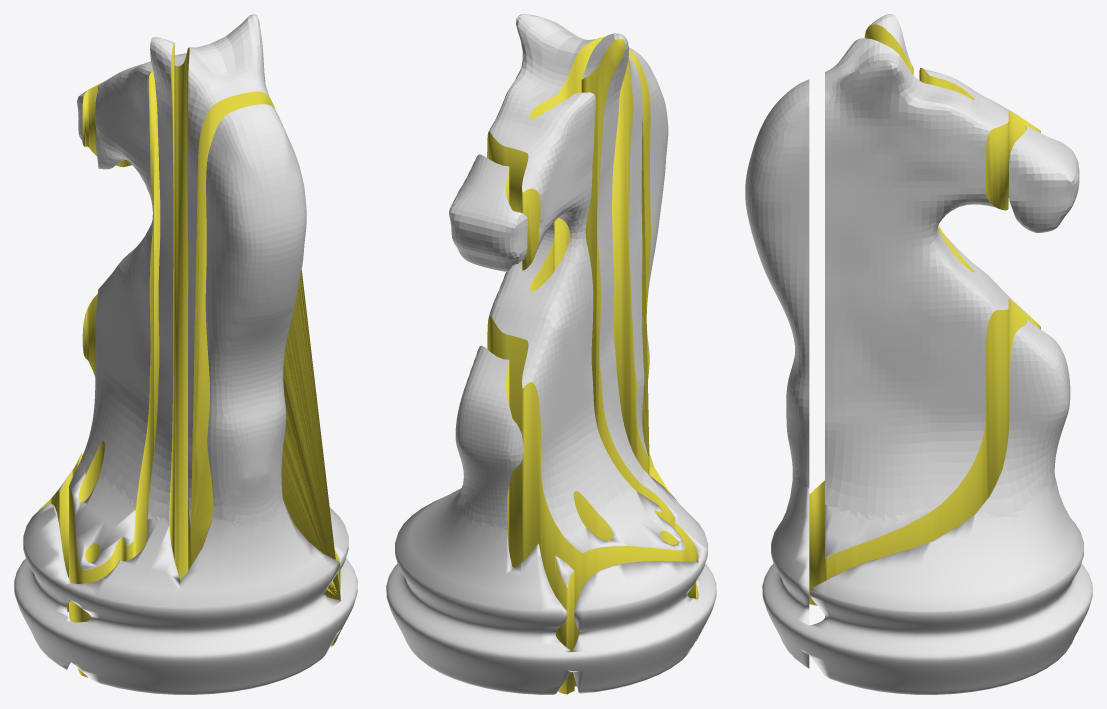
The model's file is WhiteKnight.fbx.
3 renders of one model, left to right at view 1: azimuth 30°, elevation 25°; view 2: azimuth 150°, elevation 25°; view 3: azimuth 270°, elevation 25°, orthographic. The views are drawn at different scales.
Visible parts, largest first — view 1: Knight; view 2: Knight; view 3: Knight.
Part boxes in pixels (x1=…): Knight: x1=14, y1=14, x2=357, y2=694; Knight: x1=386, y1=14, x2=716, y2=694; Knight: x1=745, y1=14, x2=1092, y2=694.
Bounding box in the file's own units: 68.39 × 139 × 71.95.
